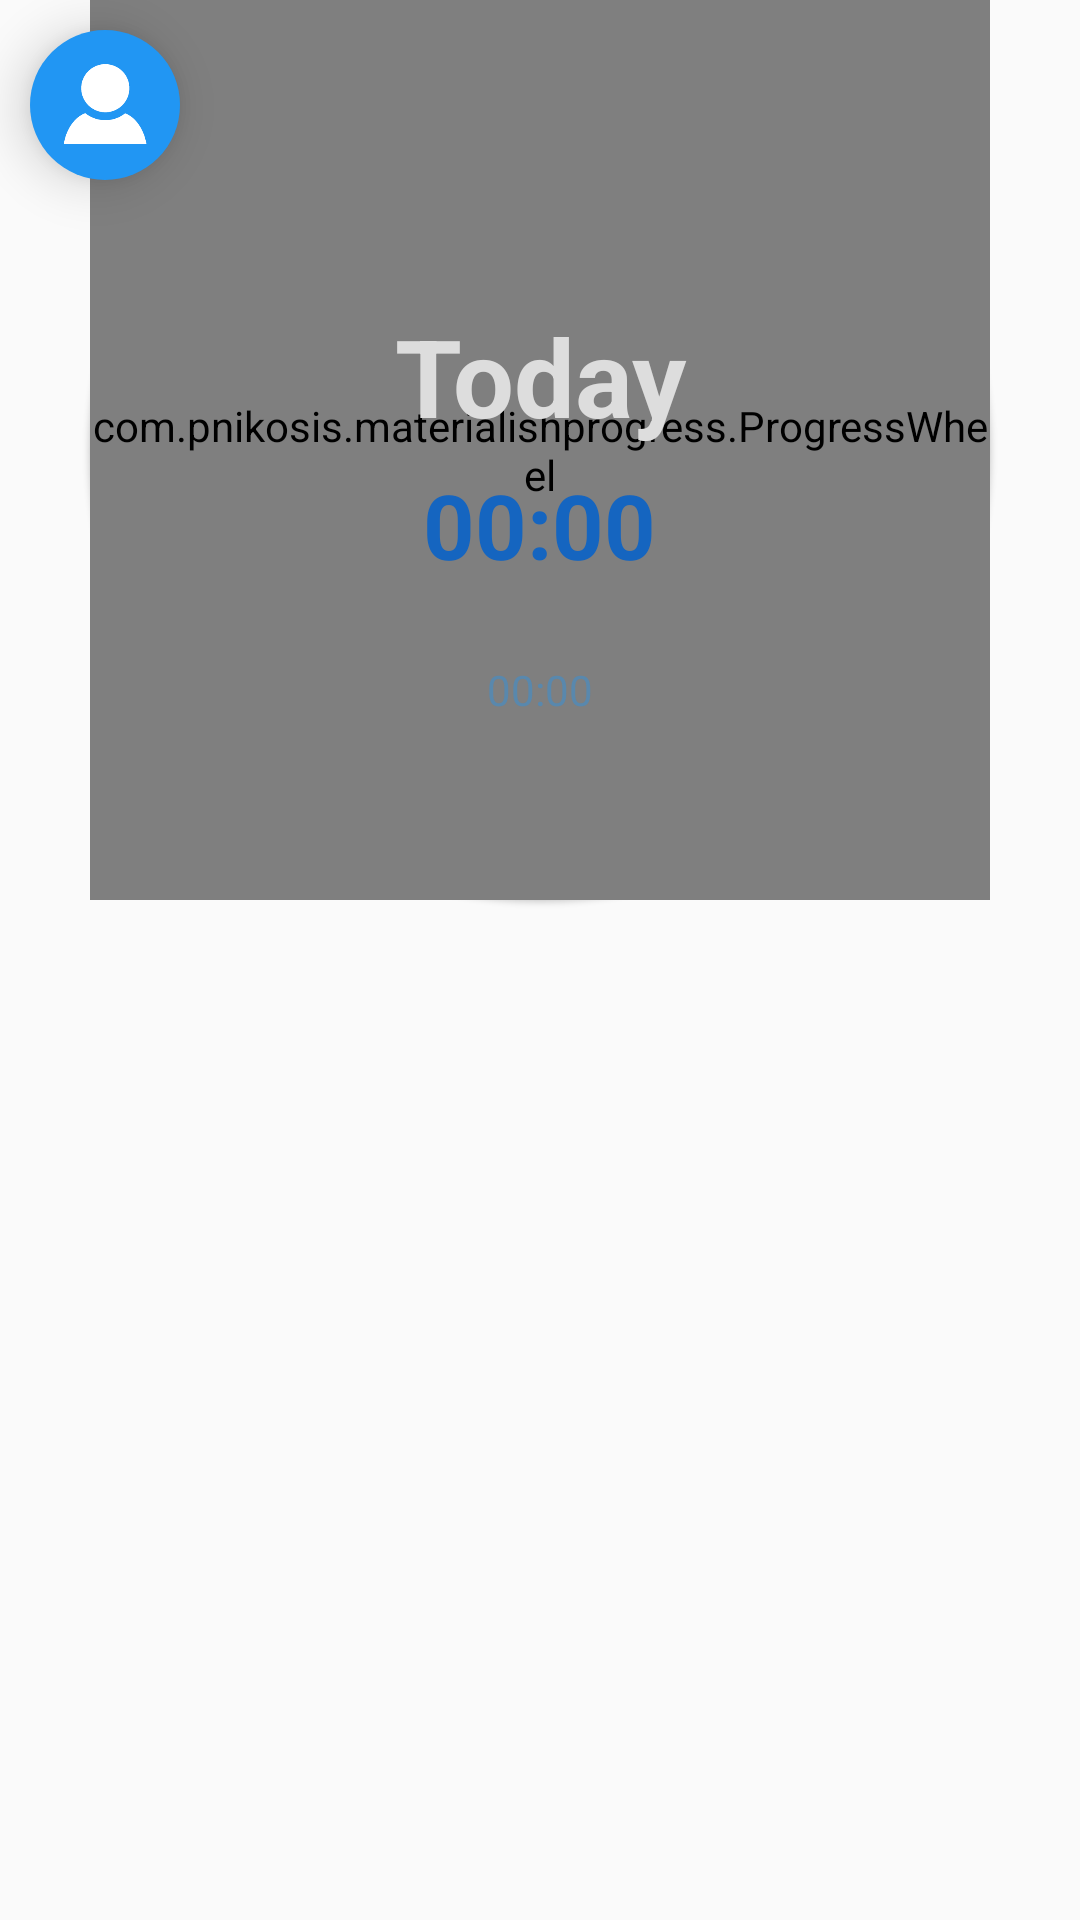

Screen size 1080w x 1920h. Icon name, then its center in pixels as (x,y):
profile: (105,105)
